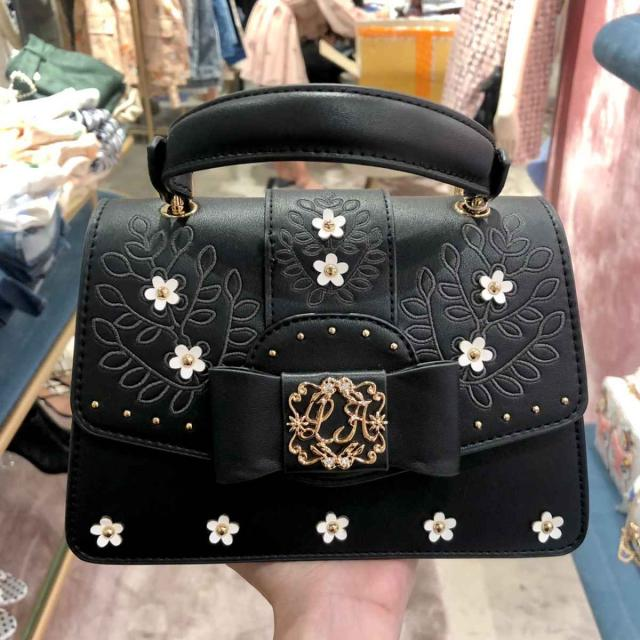bag: (56, 72, 602, 574)
